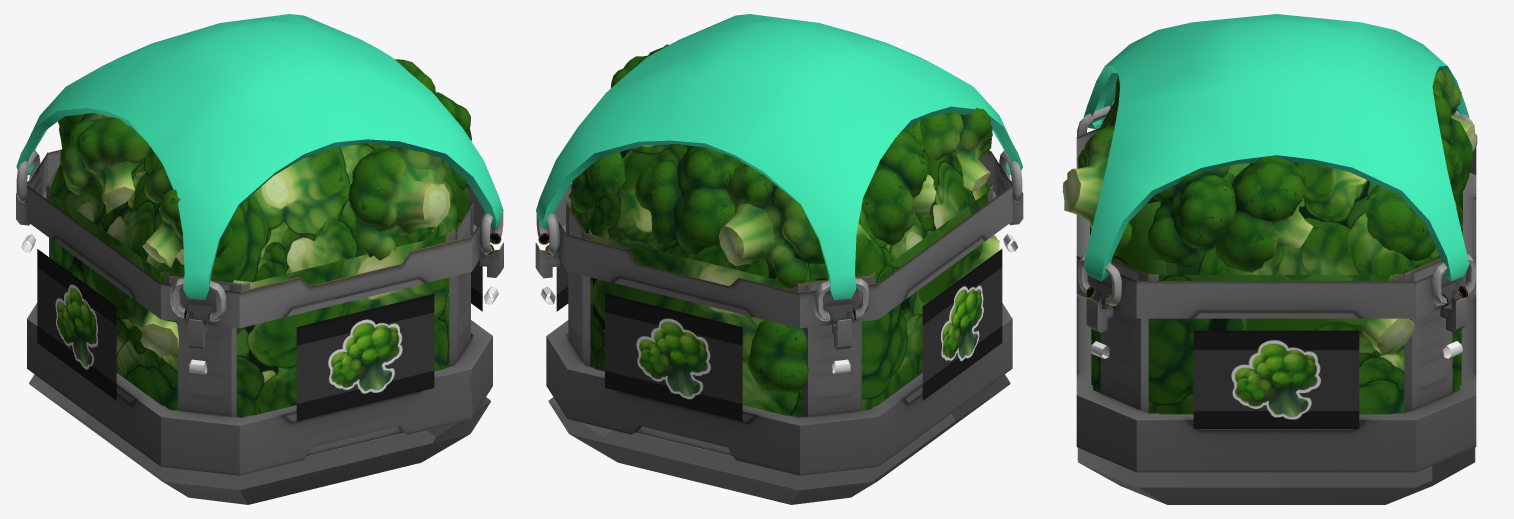
Rendered from obj_containers_broccolicrate.fbx.
3 renders of one model, left to right at view 1: azimuth 30°, elevation 25°; view 2: azimuth 150°, elevation 25°; view 3: azimuth 270°, elevation 25°, orthographic. The views are drawn at different scales.
Parts seen in each view (by area): view 1: obj_containers_broccolicrate; view 2: obj_containers_broccolicrate; view 3: obj_containers_broccolicrate.
Part boxes in pixels (x1,y1,x2,y2): obj_containers_broccolicrate: [16, 14, 503, 504]; obj_containers_broccolicrate: [535, 14, 1023, 504]; obj_containers_broccolicrate: [1062, 14, 1477, 504].
Size of the model in its own units: 7.82 by 7.82 by 7.82.
